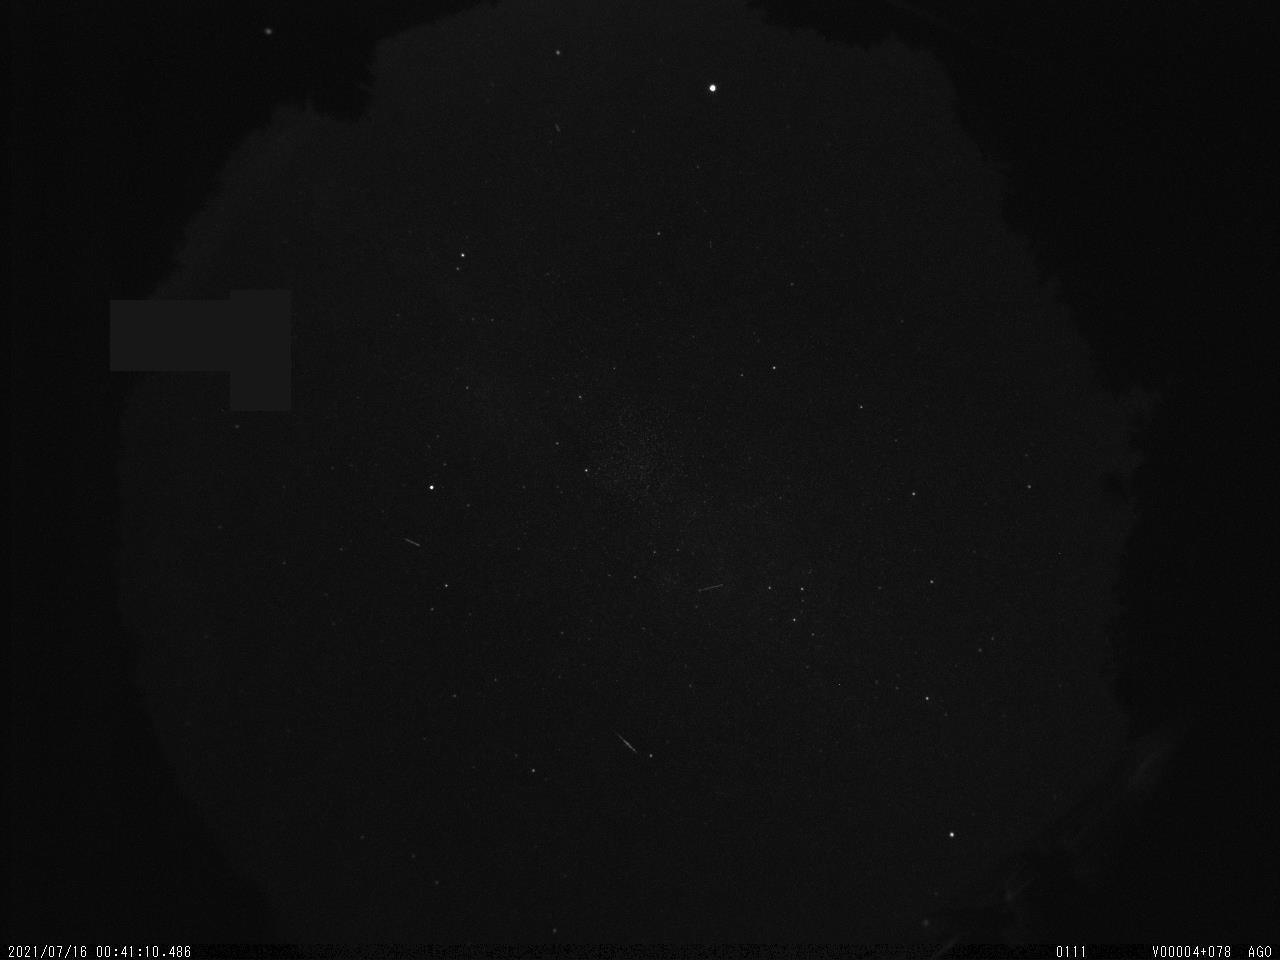meteor: (609, 724, 671, 769), (395, 529, 427, 554)
